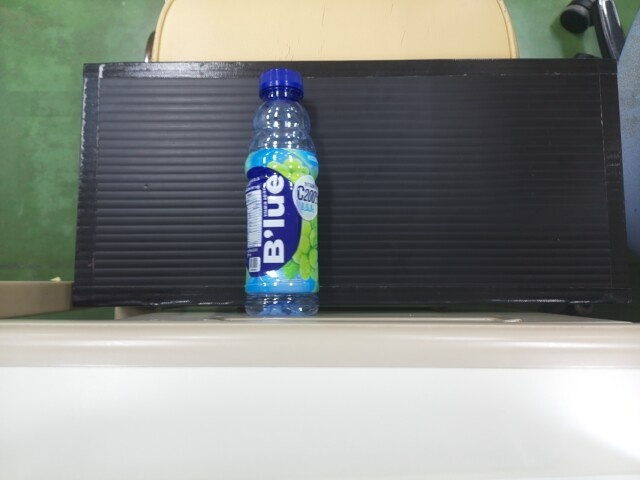plastic_bottle: (241, 57, 321, 308)
